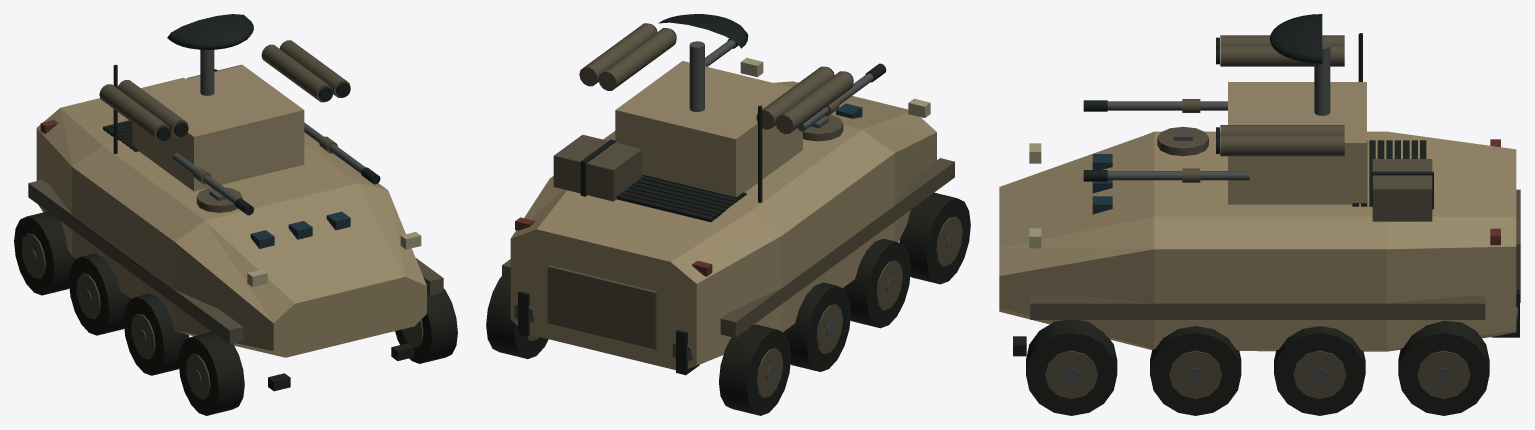
File: spaa-lod.glb
3 renders of one model, left to right at view 1: azimuth 30°, elevation 25°; view 2: azimuth 150°, elevation 25°; view 3: azimuth 270°, elevation 25°, orthographic. The views are drawn at different scales.
Visible parts, largest first — view 1: equipment (×6); view 2: equipment (×5); view 3: equipment (×6).
Part boxes in pixels (x1,y1,x2,y2): equipment (×6): (14,14,457,415); equipment (×5): (486,14,970,415); equipment (×6): (999,14,1520,415).
Bounding box in the file's own units: 3.19 × 3.57 × 5.24.
